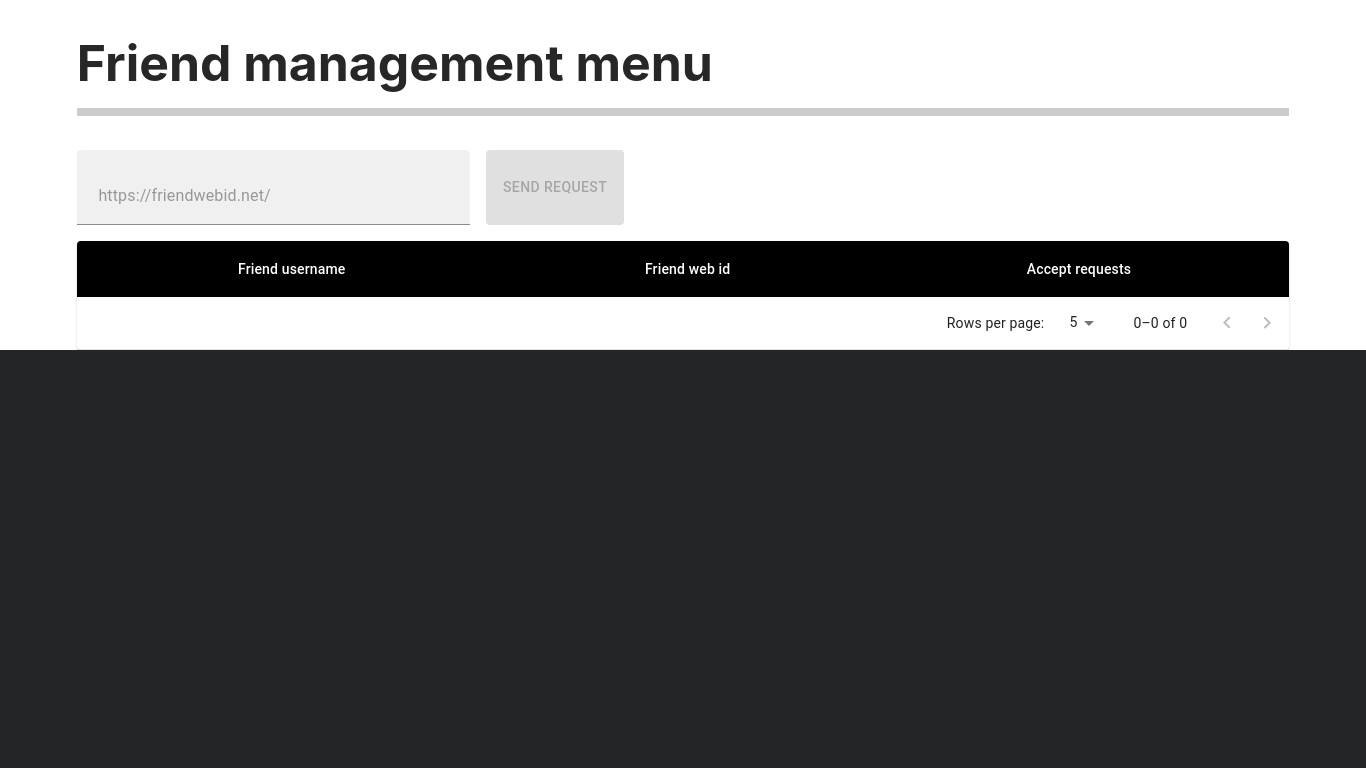
Scenario: check send request
Check: the heading "Friend management menu" is shown, box [77,33,1289,116]
Type "test" into the text box named "text" at x=274, y=196, box [89,175,458,217]
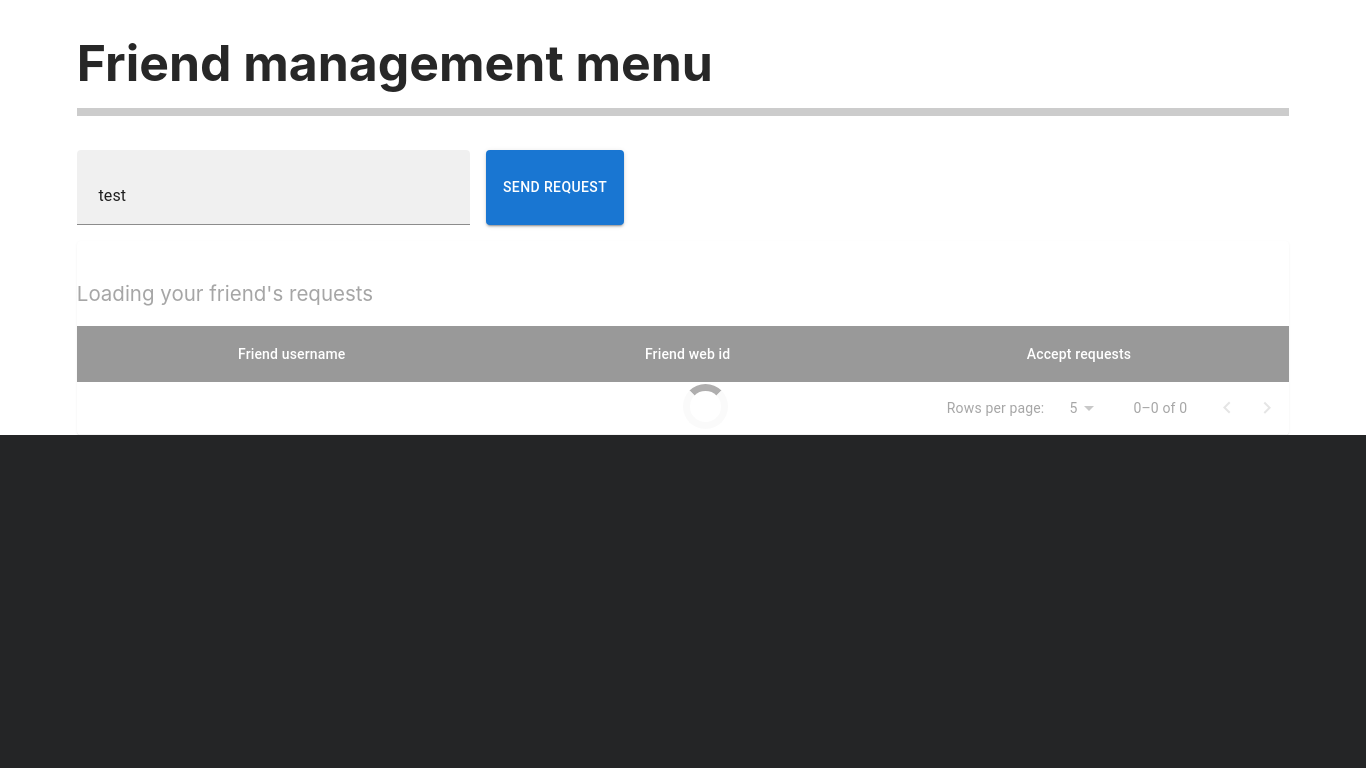
Click the button "Send request" at x=555, y=187, box [486,150,624,225]
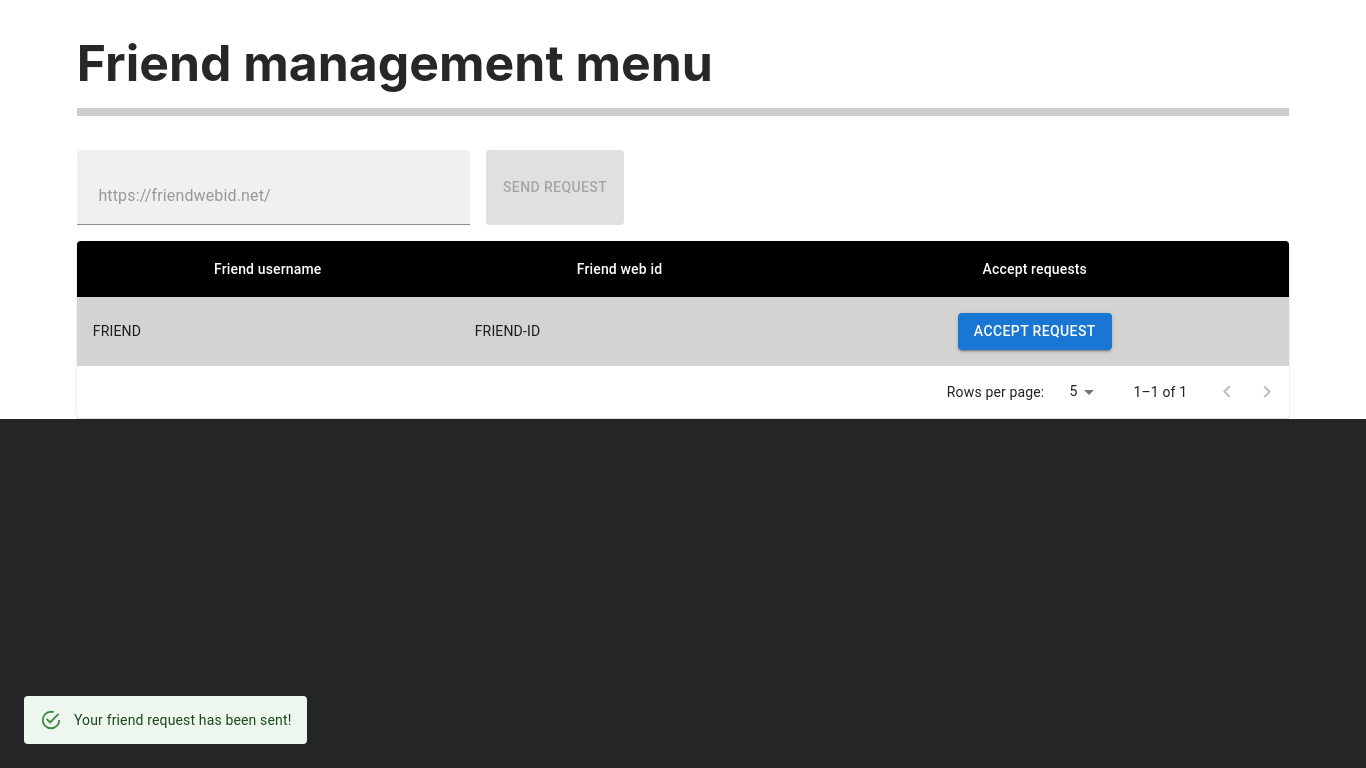
Check: the text "Your friend request has been sent!" is shown, box [74,712,292,728]
